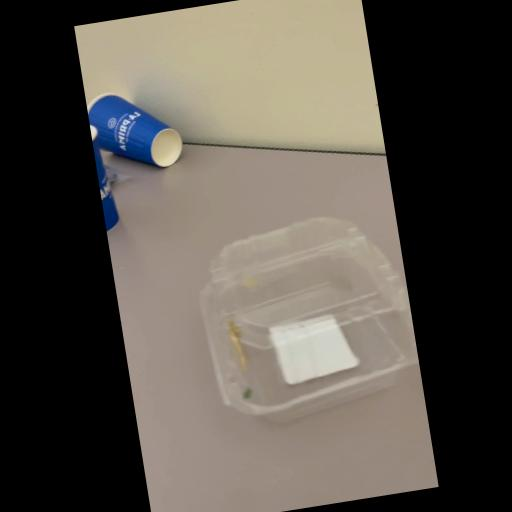lp_paper_cup: (86, 83, 184, 176)
small_plastic_container: (188, 205, 424, 429)
